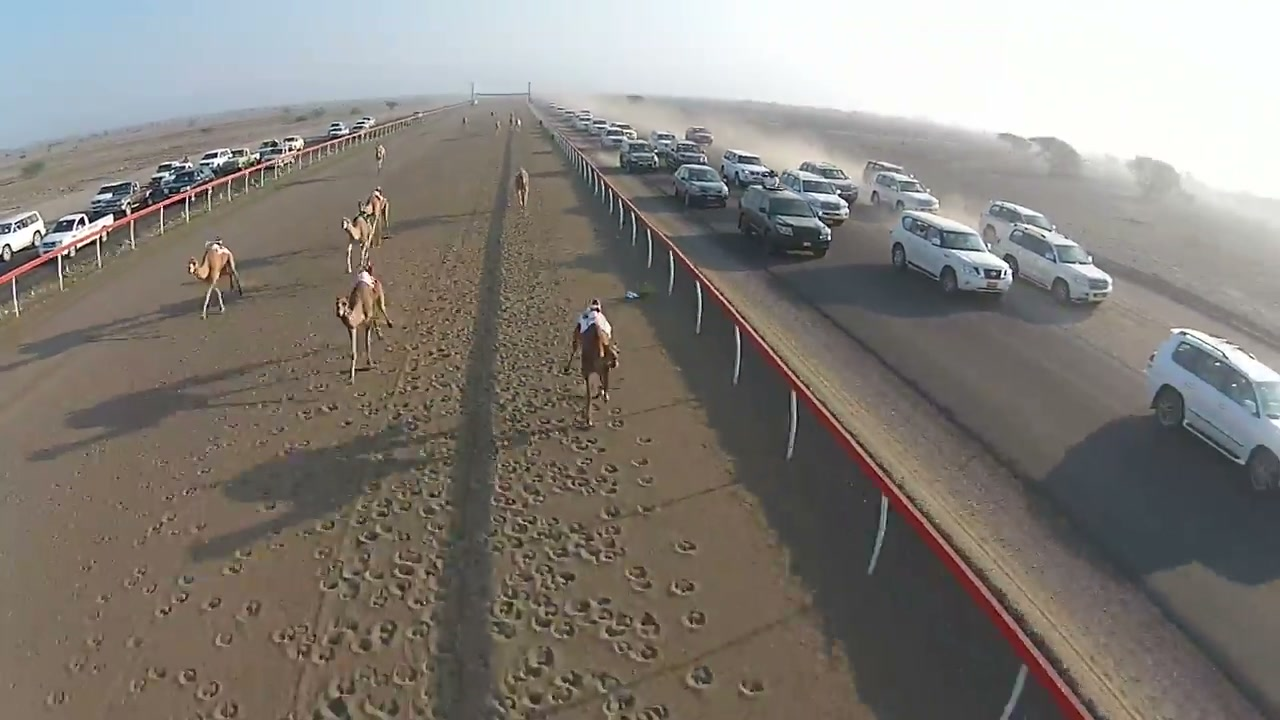animal_foot_print: (41, 193, 802, 719), (484, 242, 742, 719)
